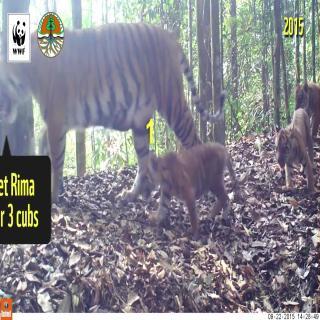Tiger: (0, 18, 224, 135), (142, 135, 244, 241), (266, 103, 315, 199), (290, 64, 320, 123)
